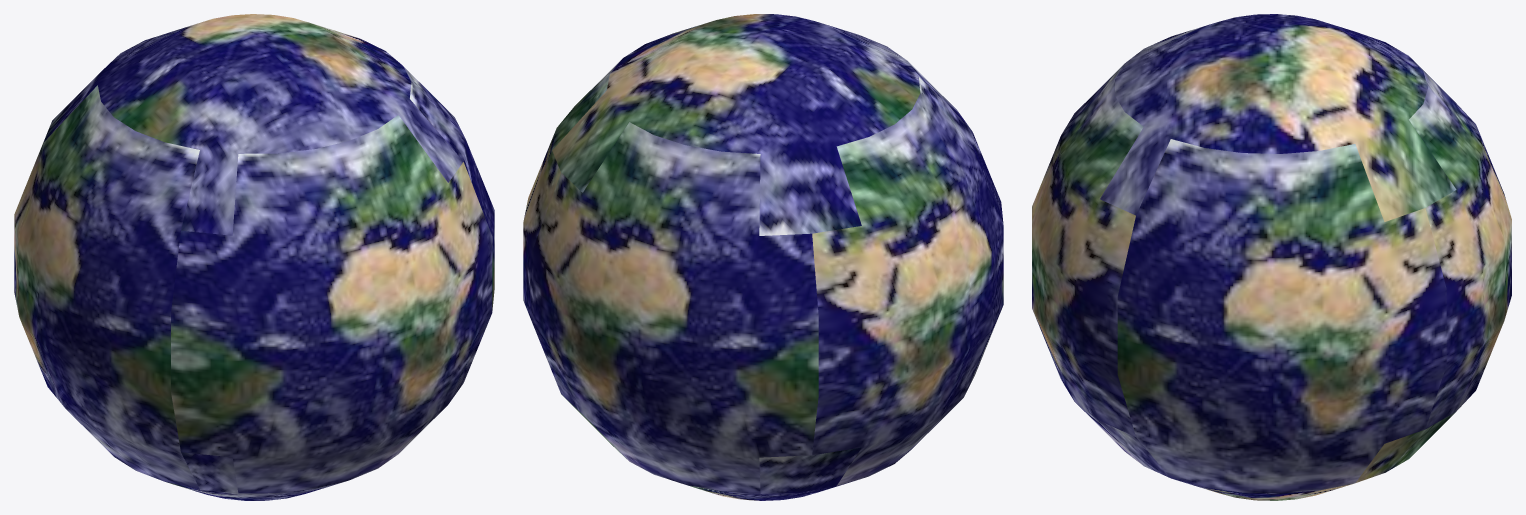
The model's file is dunya.fbx.
The picture shows the model from 3 angles, left to right: view 1: azimuth 30°, elevation 25°; view 2: azimuth 150°, elevation 25°; view 3: azimuth 270°, elevation 25°; orthographic projection.
Parts seen in each view (by area): view 1: Sphere.003; view 2: Sphere.003; view 3: Sphere.003.
Boxes of the visible parts, box(x1,y1,x2,y2) form: Sphere.003: box(14, 14, 494, 500); Sphere.003: box(523, 14, 1003, 500); Sphere.003: box(1032, 14, 1511, 500).
Size of the model in its own units: 458 by 466 by 457.
